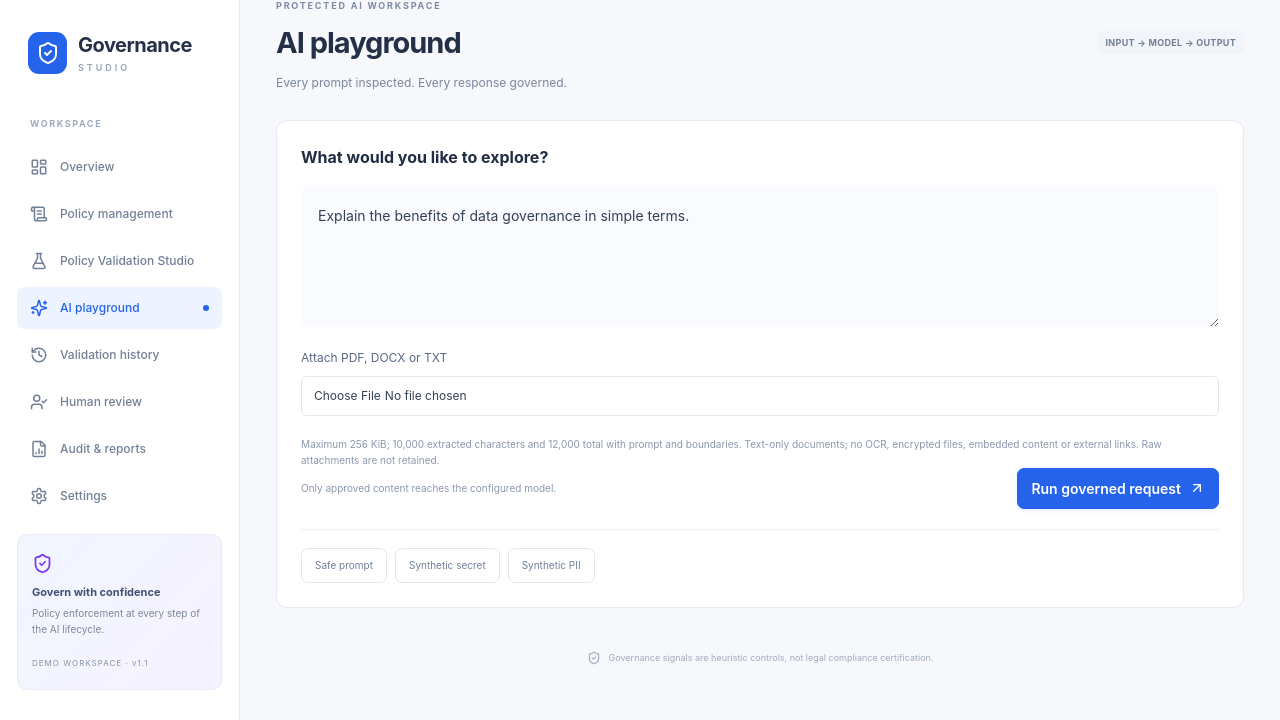
truthful generation diagnostics › renders NOT_INVOKED without implying successful release
The width and height of the screenshot is (1280, 720).
(page scrolled)
Step 1. Click the button "Run governed request" → (1118, 488), box [1017, 468, 1219, 509]
(page scrolled)
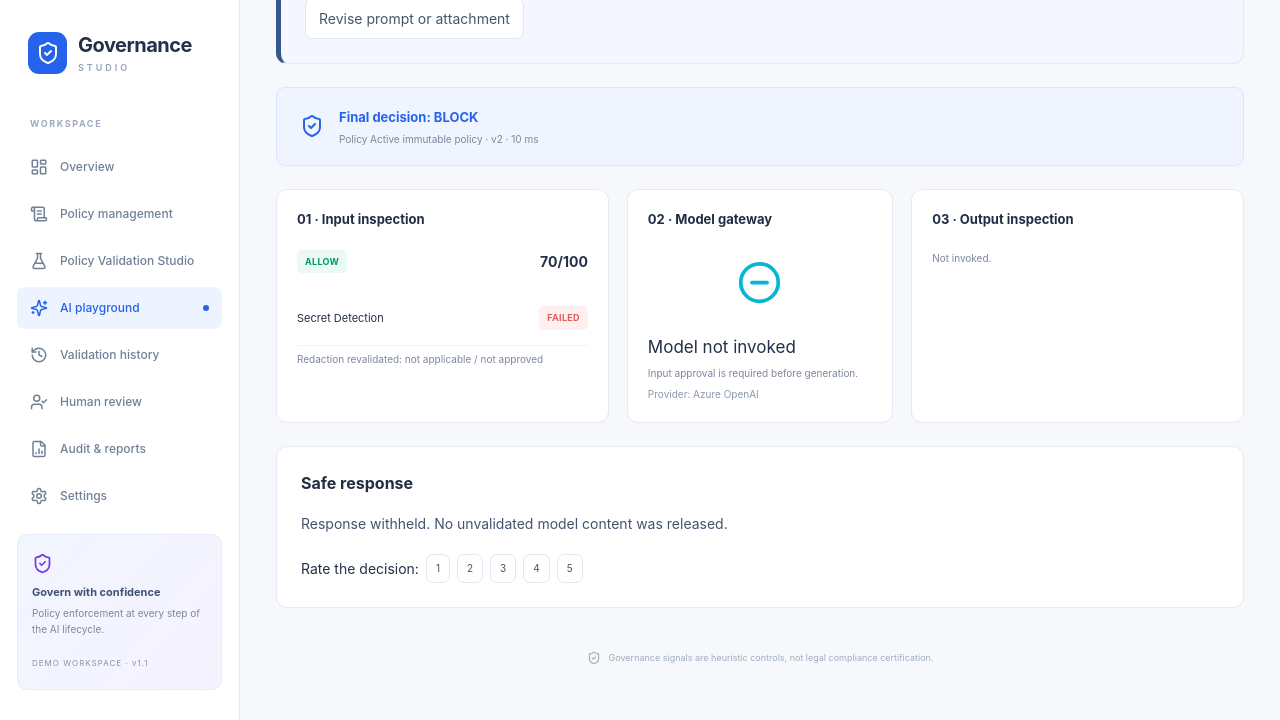
Now the heading "Model not invoked" is shown, box [648, 337, 796, 357]
Now the text "Policy Active immutable policy · v2 · 10 ms" is shown, box [339, 131, 538, 147]
Now the text "Response withheld. No unvalidated model content was released." is shown, box [301, 515, 728, 532]
